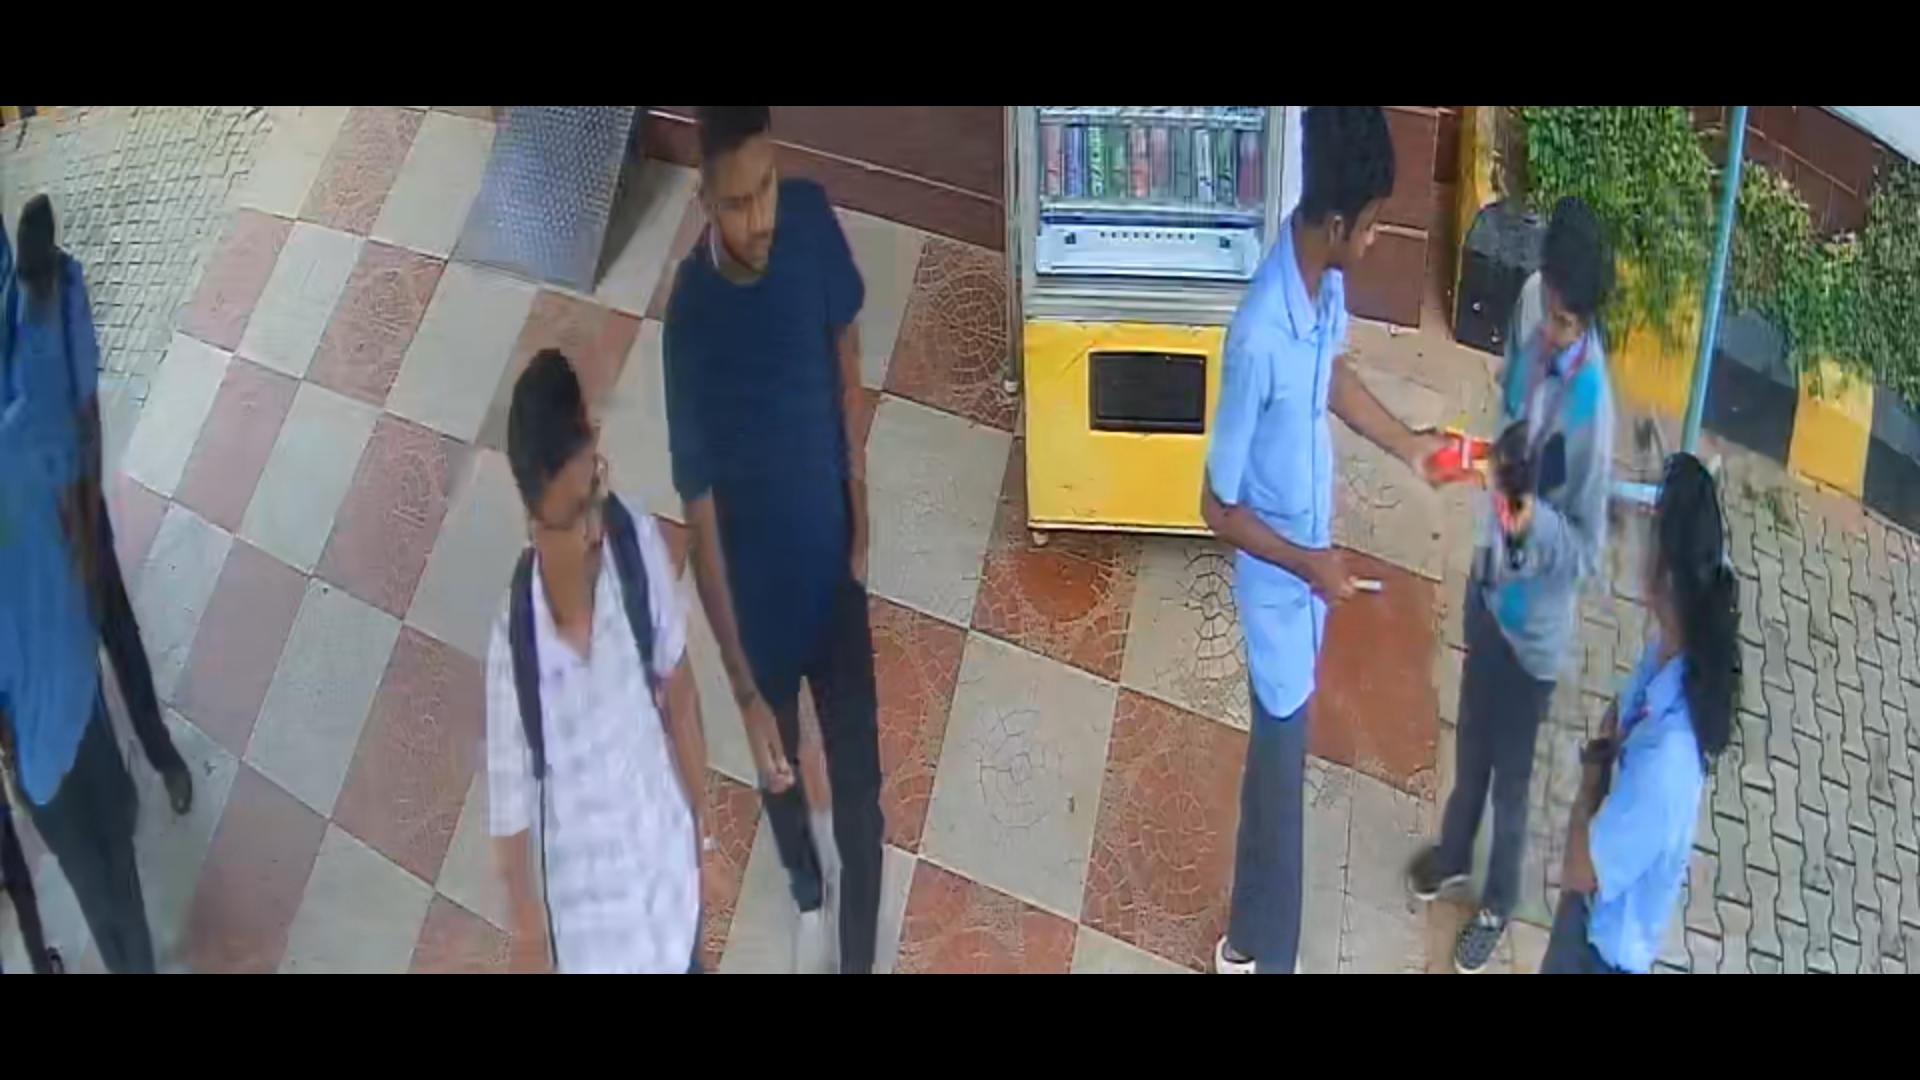intruder: (657, 98, 913, 969), (468, 345, 733, 980), (1203, 109, 1367, 973)
not intruder: (1443, 218, 1629, 887)
